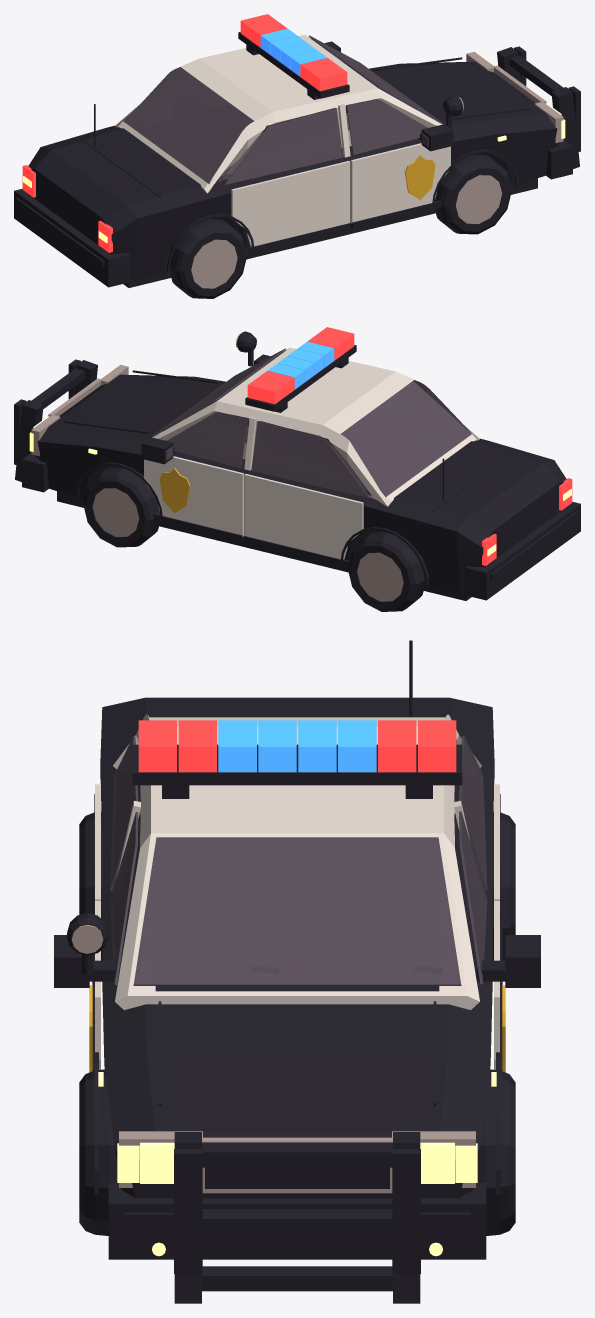
3 views of the same model, one above another, from view 1: azimuth 30°, elevation 25°; view 2: azimuth 150°, elevation 25°; view 3: azimuth 270°, elevation 25° (orthographic). The views are drawn at different scales.
Visible parts, largest first — view 1: body_pal_uiDark, body_pal_picketWhite, body_pal_asphalt, doorRearL_pal_picketWhite, doorL_pal_picketWhite, doorRearL_pal_asphalt, wheelRL_pal_uiDark, wheelFL_pal_uiDark, doorL_pal_asphalt, sirenL_emi_sirenRed, wheelRL_pal_sidewalk, wheelFL_pal_sidewalk (+8 smaller); view 2: body_pal_uiDark, body_pal_picketWhite, body_pal_asphalt, doorRearR_pal_picketWhite, doorR_pal_picketWhite, doorRearR_pal_asphalt, wheelRR_pal_uiDark, wheelFR_pal_uiDark, doorR_pal_asphalt, sirenL_emi_sirenRed, wheelRR_pal_sidewalk, wheelFR_pal_sidewalk (+8 smaller); view 3: body_pal_uiDark, body_pal_asphalt, body_pal_picketWhite, sirenR_emi_policeBlue, sirenL_emi_sirenRed, lightbar_pal_uiDark, lightsFront_emi_windowGlow, wheelFR_pal_uiDark, wheelFL_pal_uiDark, body_pal_sidewalk, doorR_pal_uiDark, doorRearR_pal_asphalt (+8 smaller).
Boxes of the visible parts, box(x1,y1,x2,y2) form: body_pal_uiDark: box(14, 46, 580, 287); body_pal_picketWhite: box(115, 34, 442, 193); body_pal_asphalt: box(123, 35, 442, 183); doorRearL_pal_picketWhite: box(231, 161, 350, 246); doorL_pal_picketWhite: box(350, 143, 450, 223); doorRearL_pal_asphalt: box(224, 108, 342, 184); wheelRL_pal_uiDark: box(167, 219, 247, 298); wheelFL_pal_uiDark: box(435, 154, 511, 234); doorL_pal_asphalt: box(346, 99, 428, 154); sirenL_emi_sirenRed: box(240, 14, 347, 91); wheelRL_pal_sidewalk: box(191, 239, 237, 288); wheelFL_pal_sidewalk: box(455, 175, 502, 223); body_pal_uiDark: box(14, 359, 580, 600); body_pal_picketWhite: box(152, 347, 479, 506); body_pal_asphalt: box(152, 348, 471, 496); doorRearR_pal_picketWhite: box(244, 474, 363, 559); doorR_pal_picketWhite: box(144, 456, 244, 536); doorRearR_pal_asphalt: box(251, 421, 369, 497); wheelRR_pal_uiDark: box(347, 532, 427, 611); wheelFR_pal_uiDark: box(83, 467, 159, 547); doorR_pal_asphalt: box(166, 412, 247, 468); sirenL_emi_sirenRed: box(247, 327, 354, 404); wheelRR_pal_sidewalk: box(357, 552, 403, 601); wheelFR_pal_sidewalk: box(92, 488, 139, 536); body_pal_uiDark: box(94, 640, 500, 1303); body_pal_asphalt: box(133, 837, 461, 985); body_pal_picketWhite: box(113, 714, 481, 1009); sirenR_emi_policeBlue: box(218, 720, 376, 772); sirenL_emi_sirenRed: box(138, 720, 456, 772); lightbar_pal_uiDark: box(132, 744, 462, 798); lightsFront_emi_windowGlow: box(98, 1072, 496, 1256); wheelFR_pal_uiDark: box(477, 1069, 515, 1235); wheelFL_pal_uiDark: box(79, 1069, 117, 1235); body_pal_sidewalk: box(119, 1131, 475, 1193); doorR_pal_uiDark: box(474, 935, 540, 1070); doorRearR_pal_asphalt: box(459, 736, 487, 890).
Size of the model in its own units: 5.4 by 1.93 by 2.32.
